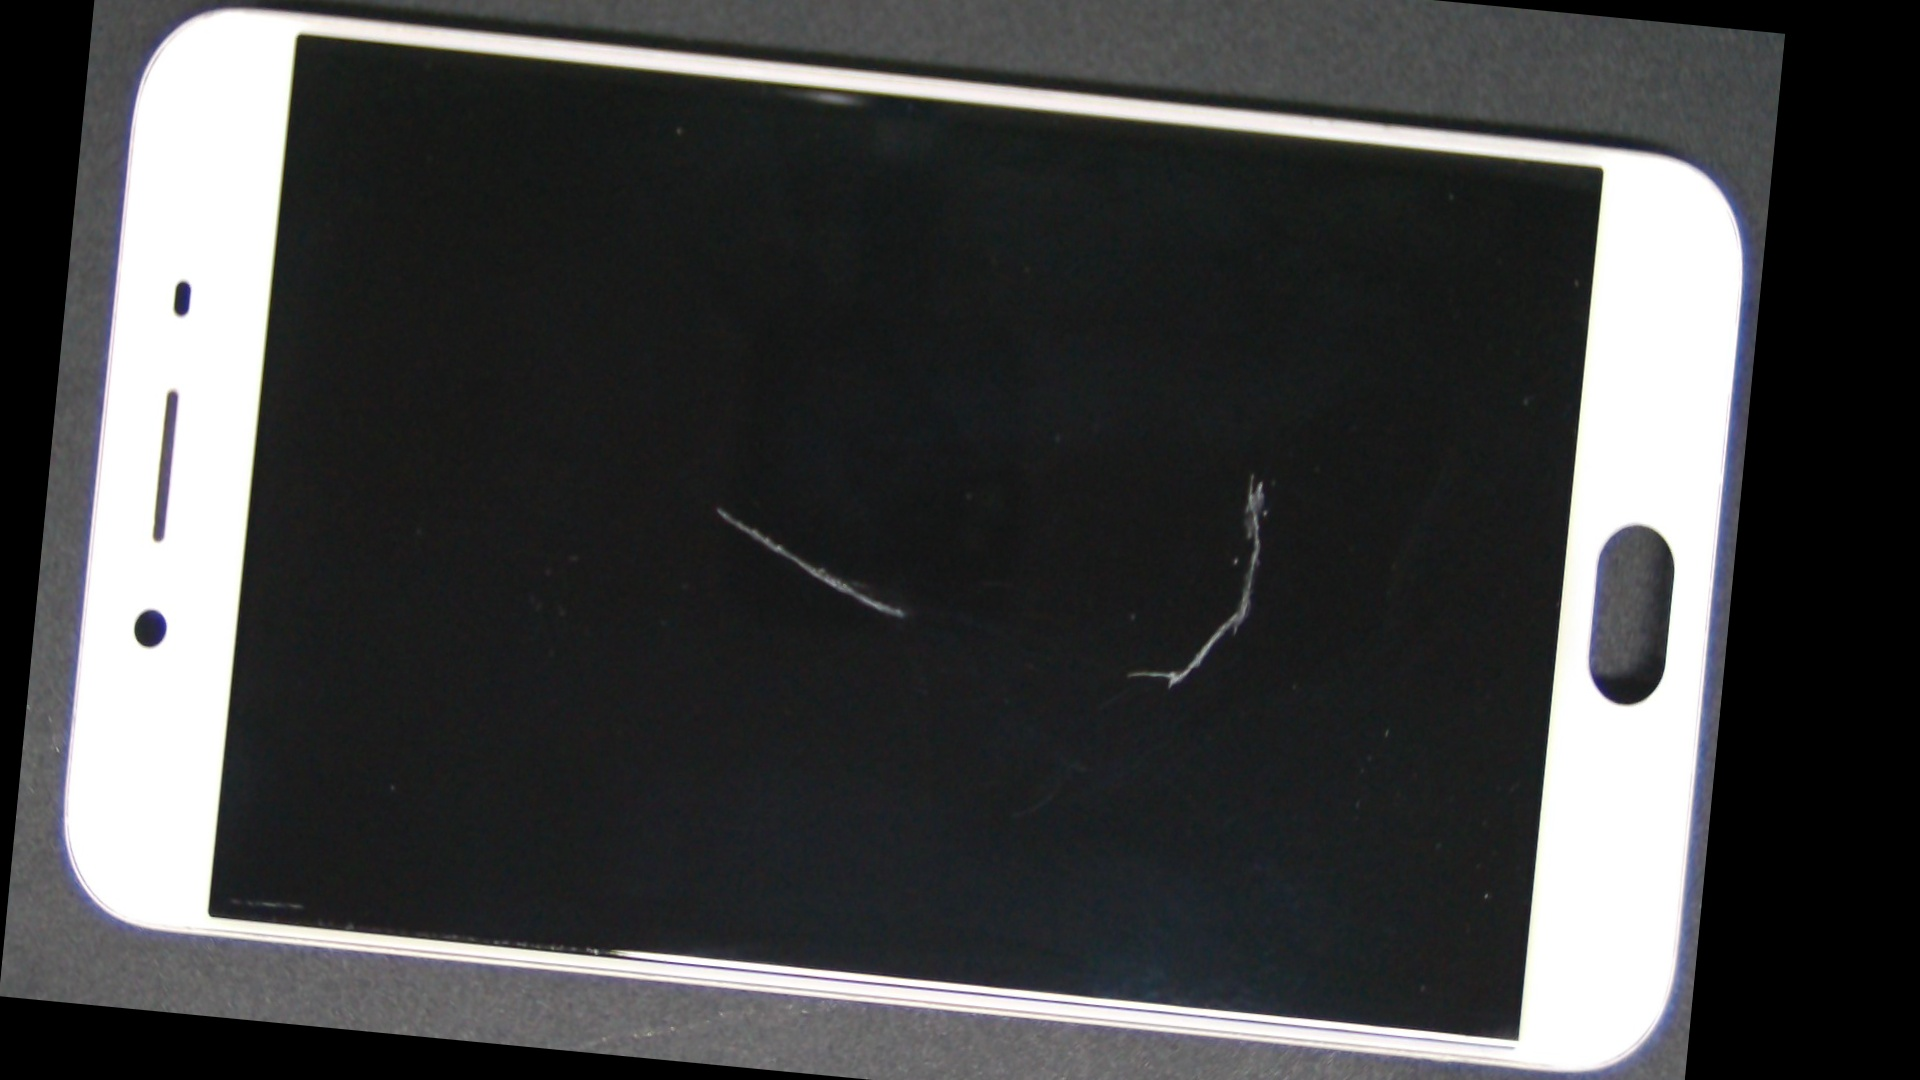oil: (634, 171, 1762, 761), (359, 190, 1079, 824)
